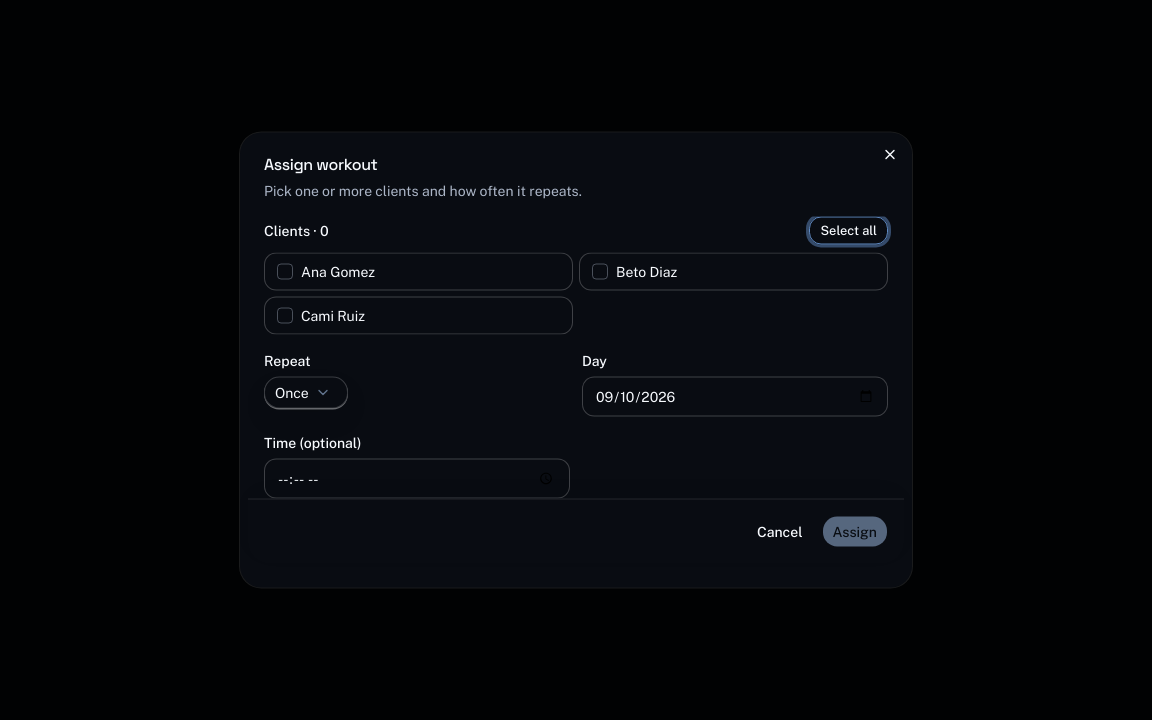
Test: AssignGeneratedModal — who gets it › selects everyone with 'Select all', and clears on a second press
The width and height of the screenshot is (1152, 720).
What coordinates should you click on to do the following:
click the button "Select all"
I would click on:
 (849, 230)
Its box is [810,216,888,244].
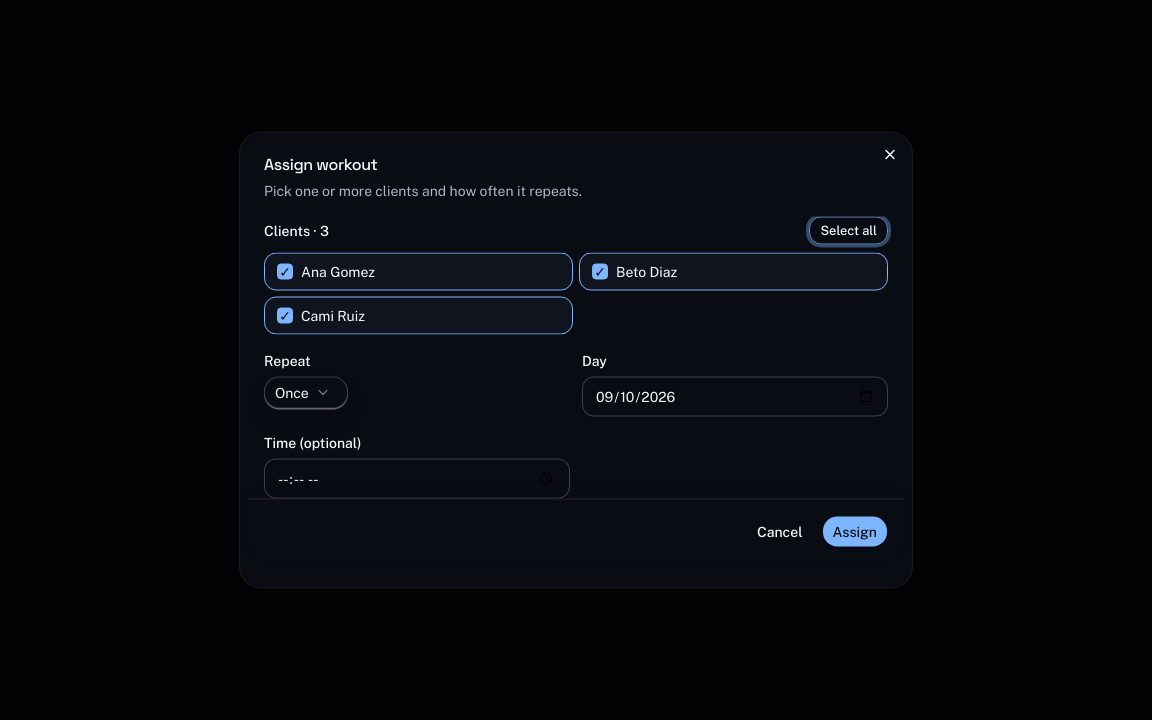
What coordinates should you click on to do the following:
click the button "Assign"
I would click on:
 (855, 532)
Its box is [822,516,888,548].
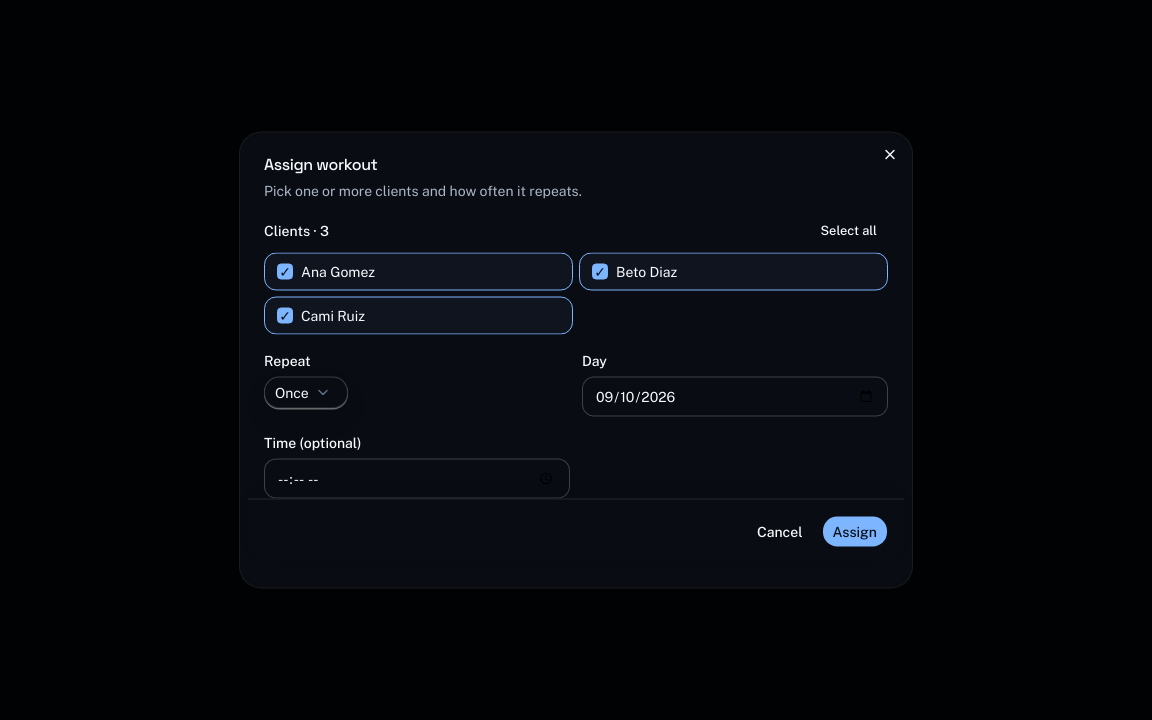
What coordinates should you click on to do the following:
click the button "Select all"
I would click on:
 (849, 230)
Its box is [810,216,888,244].
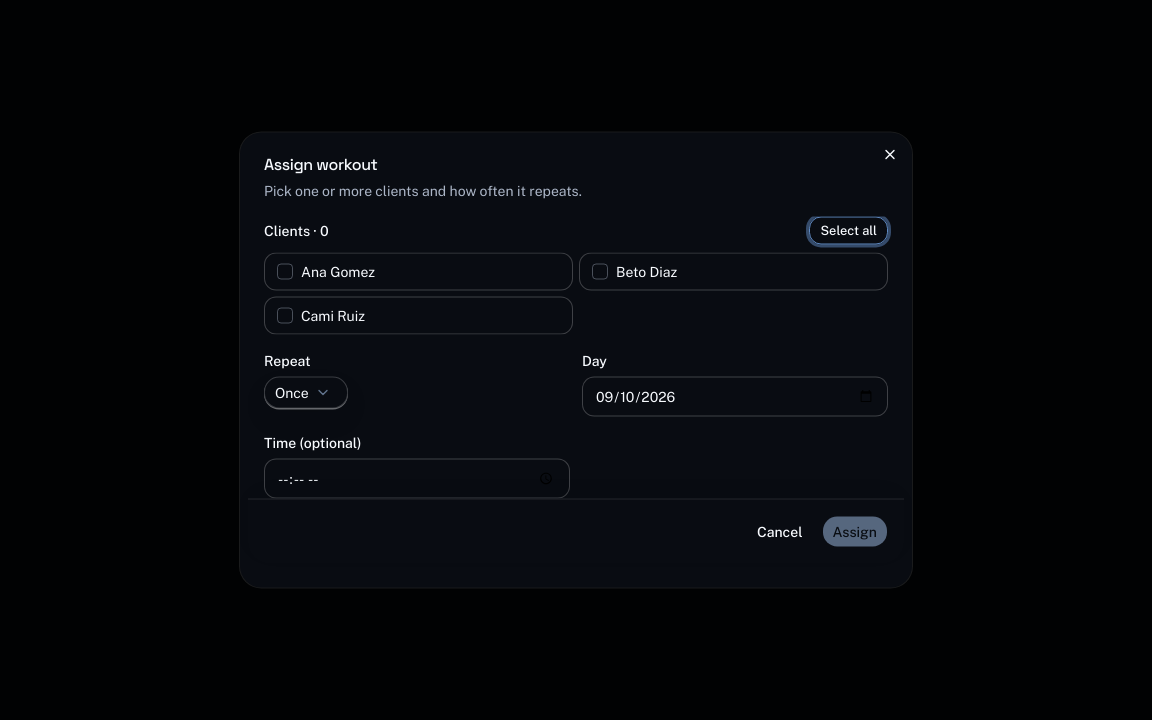
Expected: the button "Assign" is disabled, [822,516,888,548]
